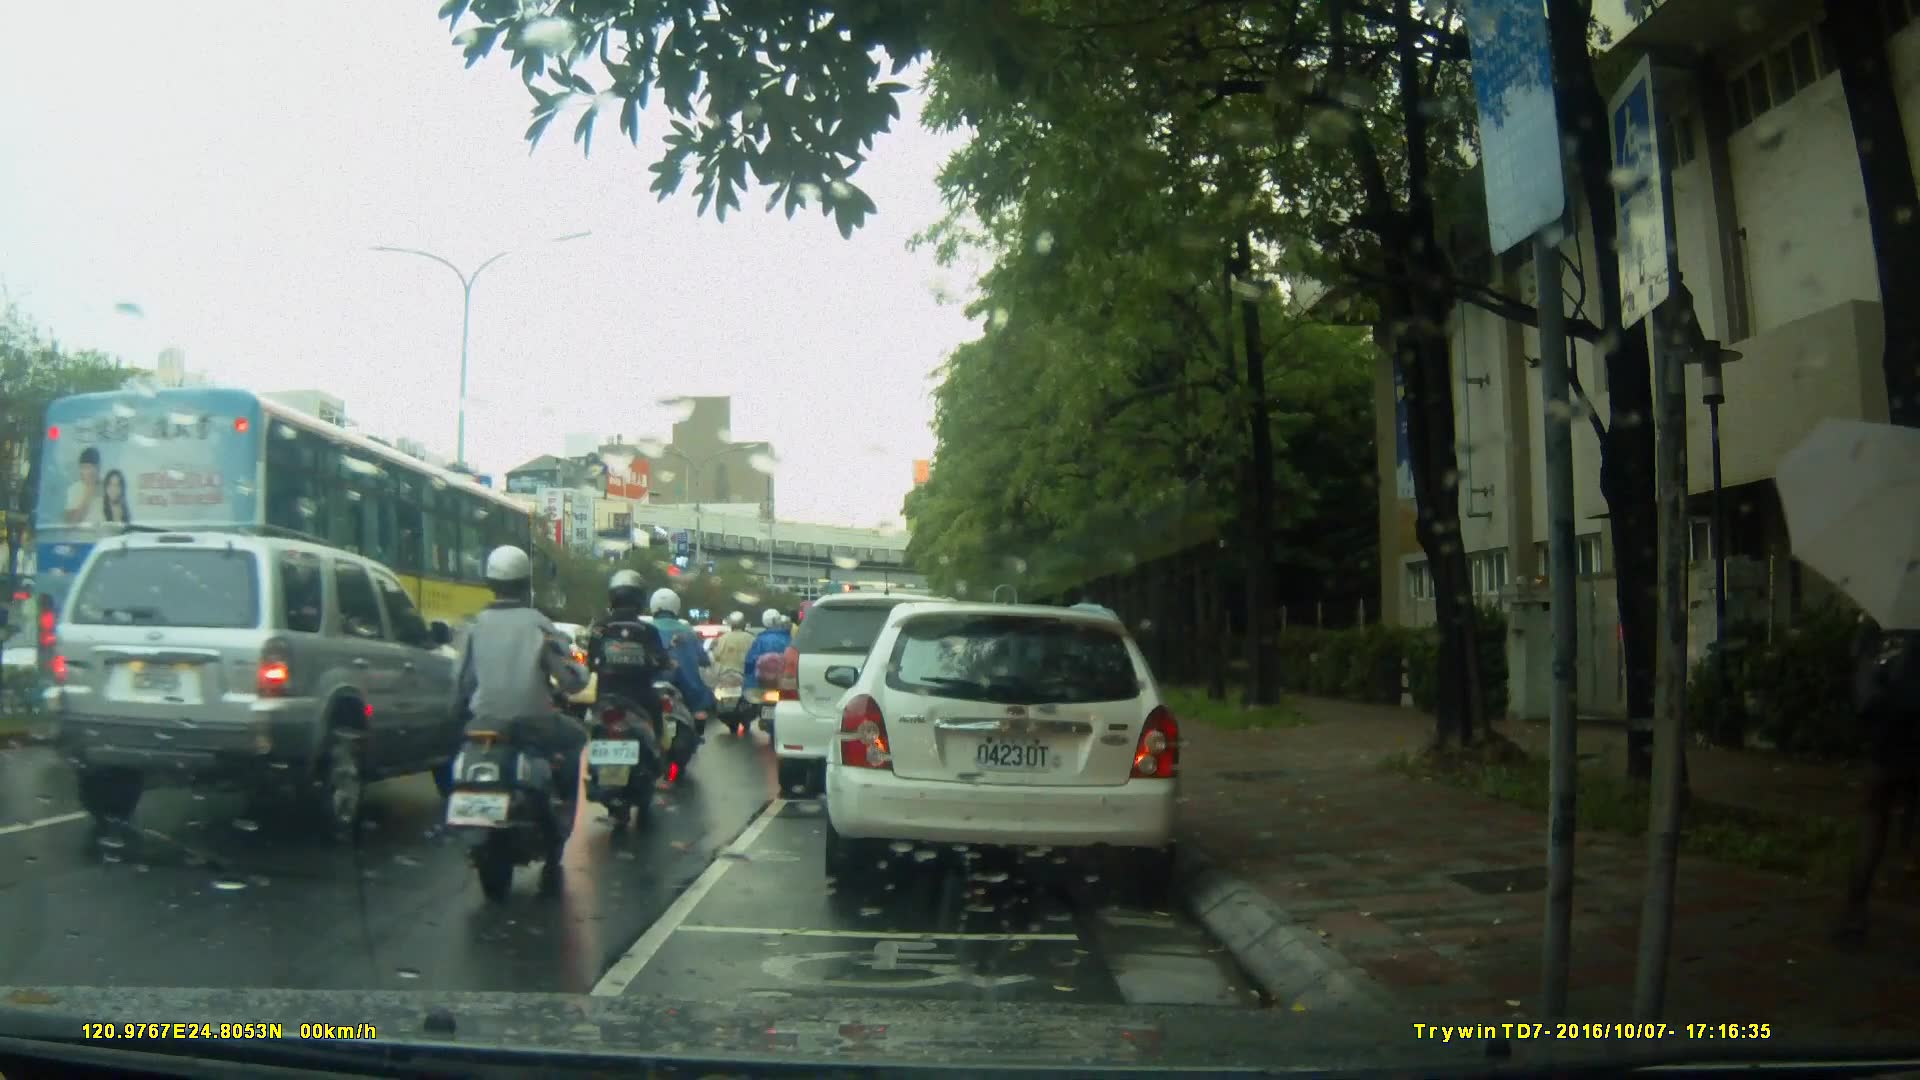rider: (436, 542, 596, 905), (586, 567, 680, 828), (633, 584, 719, 774), (747, 611, 812, 733), (706, 608, 766, 733)
vehicle: (32, 386, 543, 763), (27, 524, 469, 840), (835, 594, 1194, 898), (776, 590, 1026, 784)
